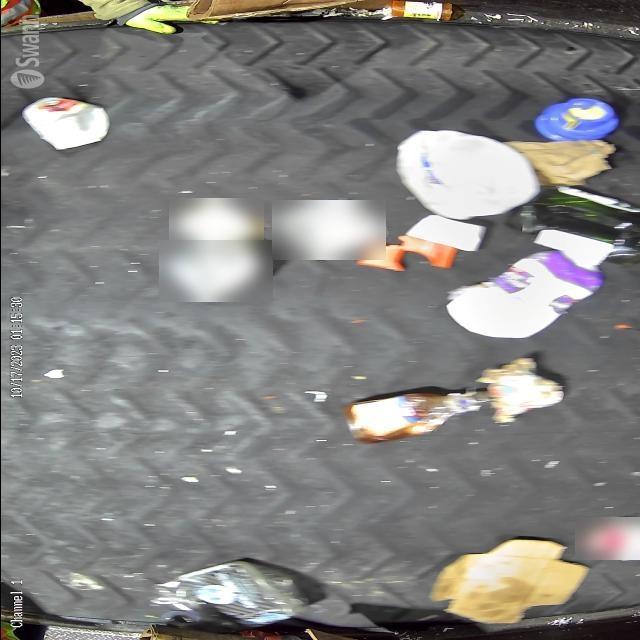milk_jug: (394, 129, 538, 220)
non_white_jug: (20, 96, 109, 148)
